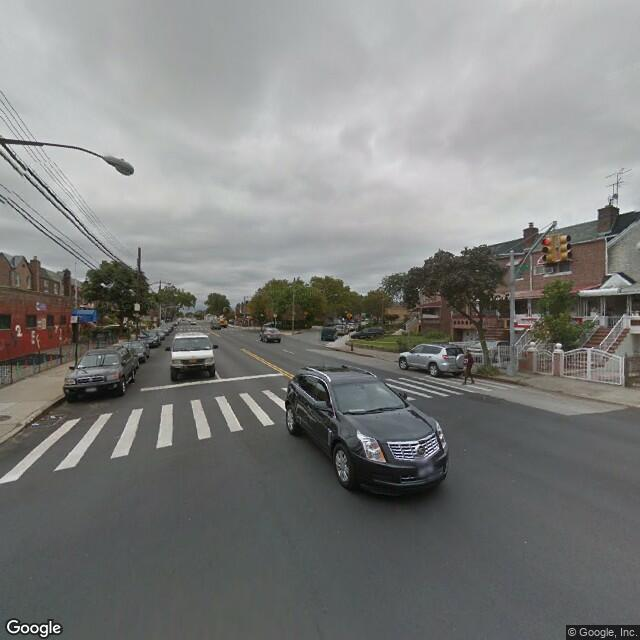litter: (30, 405, 68, 438)
